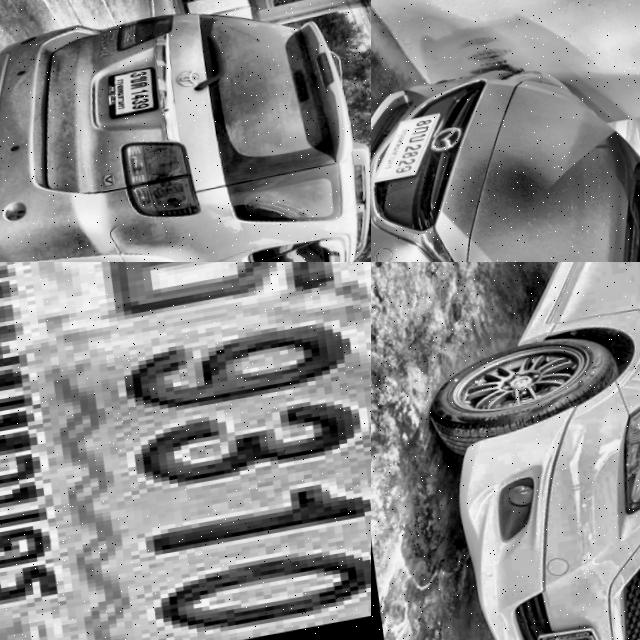license-plate: (0, 262, 371, 640), (371, 111, 453, 187), (102, 66, 164, 124), (530, 614, 632, 640)
